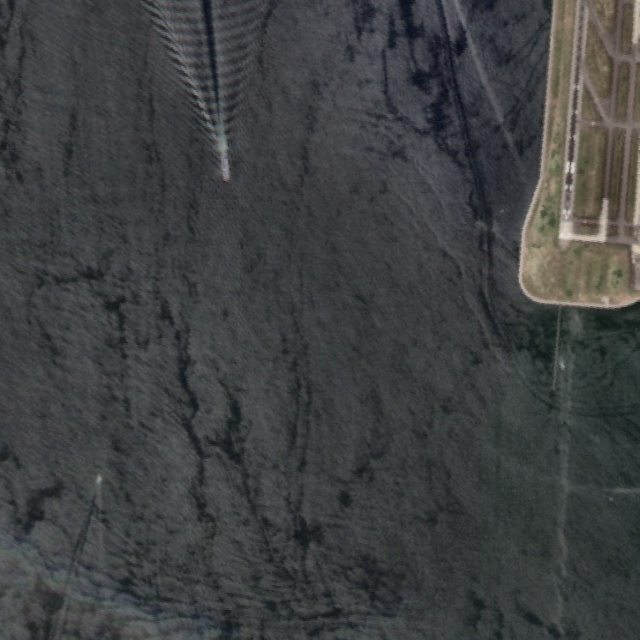wake: (164, 13, 280, 190)
